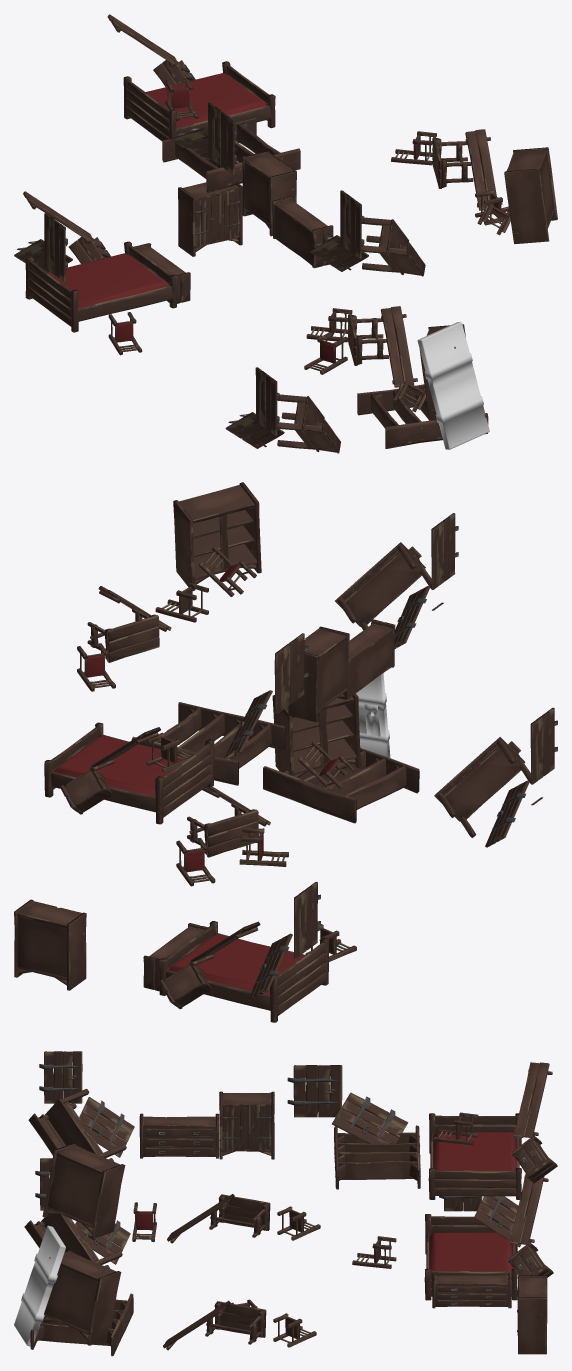
File: Furnitures.fbx
3 renders of one model, top to bottom at view 1: azimuth 30°, elevation 25°; view 2: azimuth 150°, elevation 25°; view 3: azimuth 270°, elevation 25°, orthographic. The views are drawn at different scales.
Parts seen in each view (by area): view 1: FirstFloorFurniture, SceondFloorFurniture; view 2: SceondFloorFurniture, FirstFloorFurniture; view 3: SceondFloorFurniture, FirstFloorFurniture.
Part boxes in pixels (<box>): FirstFloorFurniture: <box>14,182,489,453</box>; SceondFloorFurniture: <box>107,14,557,276</box>; SceondFloorFurniture: <box>44,482,458,824</box>; FirstFloorFurniture: <box>14,673,557,1022</box>; SceondFloorFurniture: <box>28,1051,557,1243</box>; FirstFloorFurniture: <box>14,1158,553,1356</box>.
Size of the model in its own units: 7.04 by 5.42 by 10.96.
